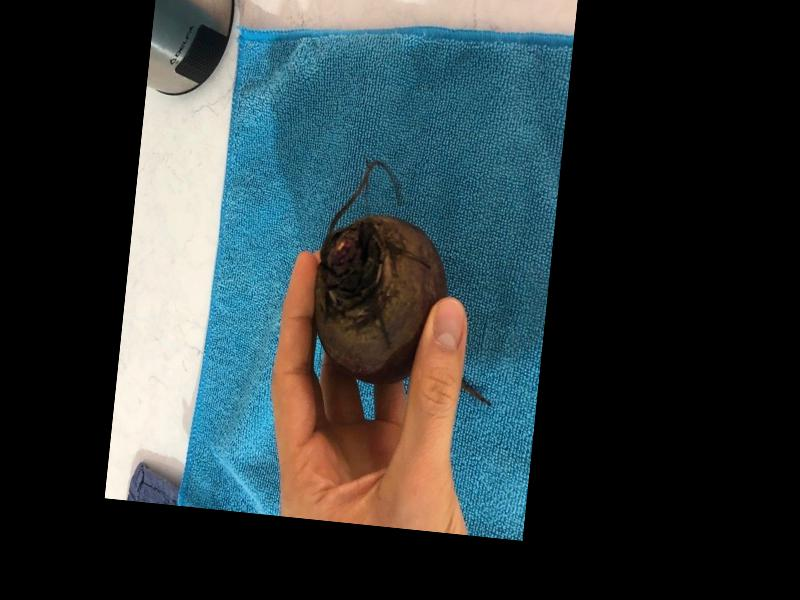Beet: (306, 157, 513, 405)
